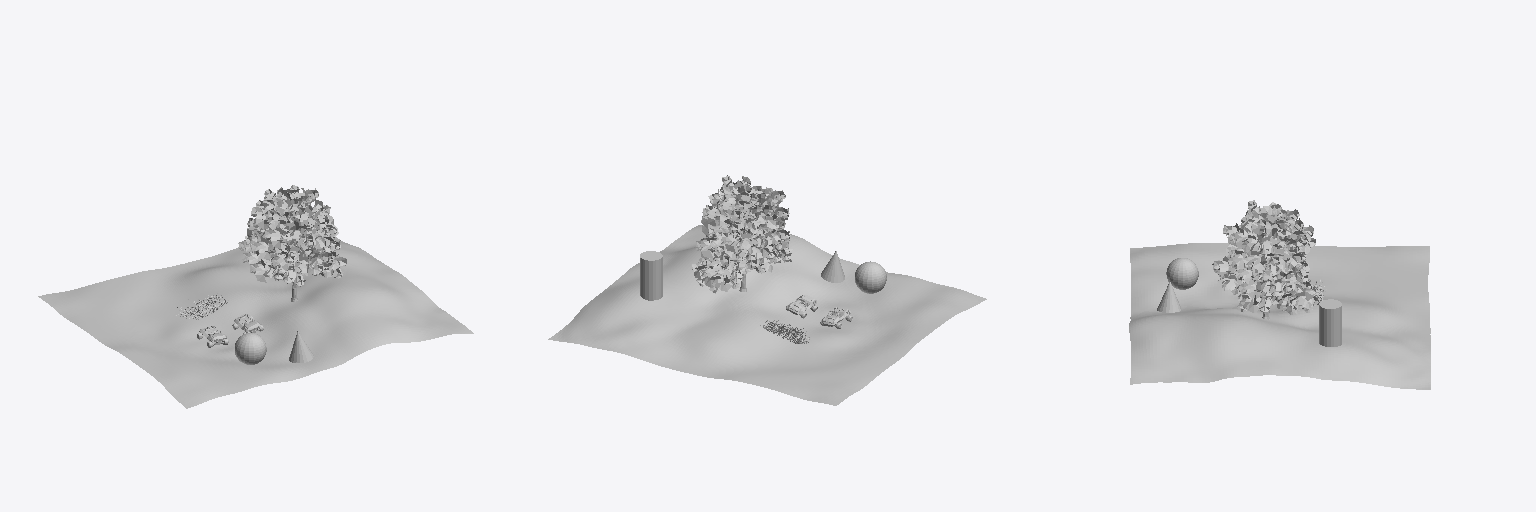
The model's file is tree3.obj.
3 renders of one model, left to right at view 1: azimuth 30°, elevation 25°; view 2: azimuth 150°, elevation 25°; view 3: azimuth 270°, elevation 25°, orthographic.
Size of the model in its own units: 91.34 by 38.75 by 82.83.